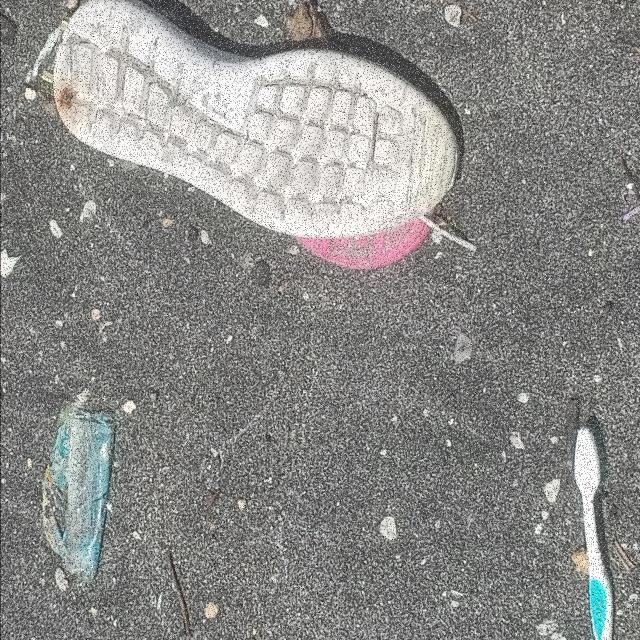plastic_waste: (41, 398, 117, 587)
rubber_waste: (51, 1, 464, 242)
